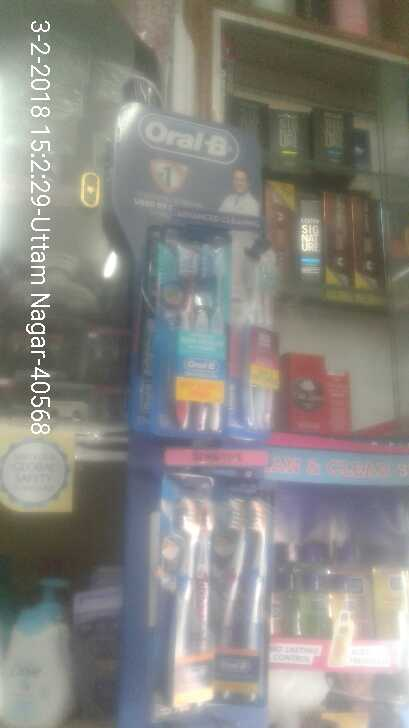oralb: (144, 476, 210, 712), (161, 243, 227, 438), (210, 491, 263, 704), (236, 237, 287, 434)
